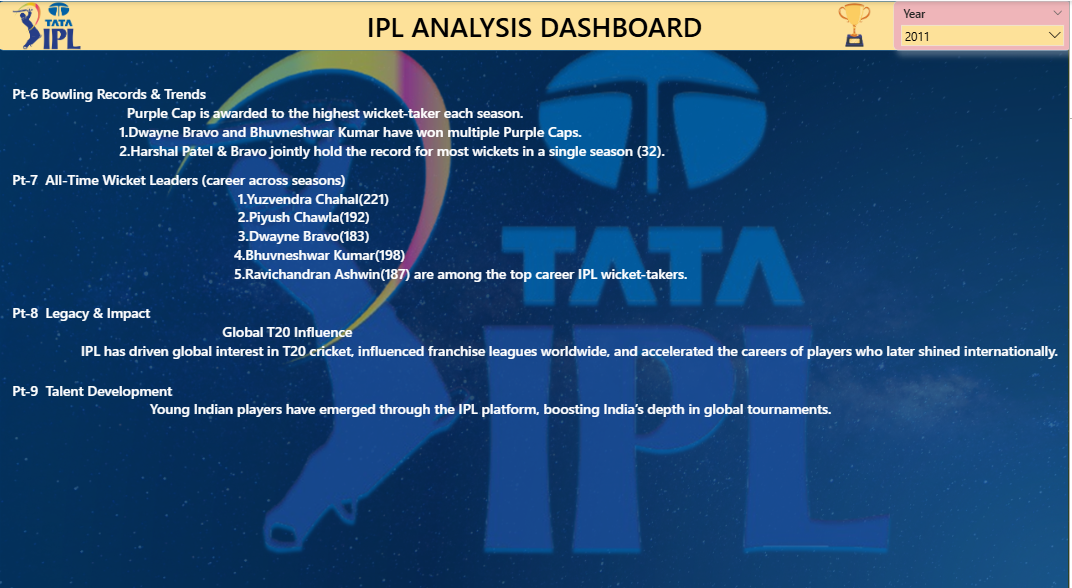

Layout of this report page (visuals, bound fields, positions):
{"tool":"powerbi","page":{"name":"IPL Summary(6-9)","canvas":[1850,1020],"ordinal":4},"visuals":[{"type":"shape","box":[0,0,1851.2,85.4],"z":0},{"type":"slicer","fields":{"Values":["Date_Table.Year"]},"box":[1543.9,0,307.3,85],"z":1000},{"type":"image","box":[1411,0,134,82.9],"z":2000},{"type":"image","box":[0,2.4,168.1,80.4],"z":3000},{"type":"textbox","box":[19.5,102.4,1830.1,918.7],"z":4000}]}

Visuals, with their boxes in screenshot pixels (x1, y1, x2, y2), scaled from the page's 1850x1020 canvas onto the 1072x588 screenshot:
shape: region(0, 0, 1071, 49)
slicer - Date_Table.Year: region(895, 0, 1071, 49)
image: region(818, 0, 895, 48)
image: region(0, 1, 97, 48)
textbox: region(11, 59, 1071, 587)
